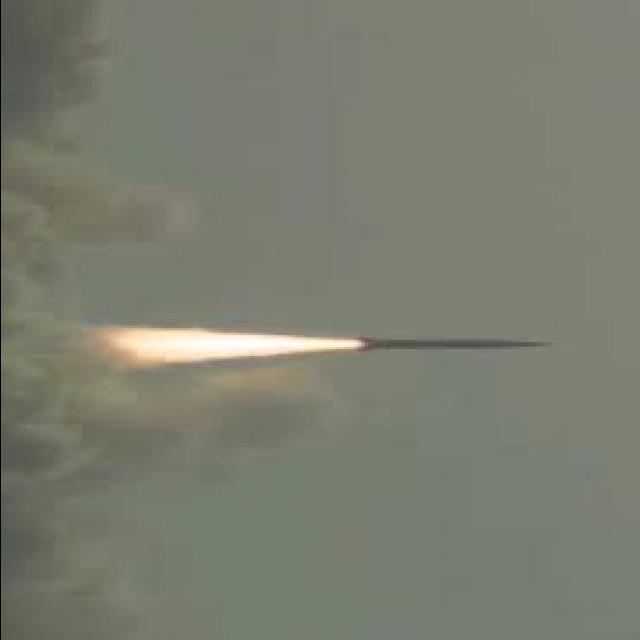missile: (350, 337, 558, 356)
